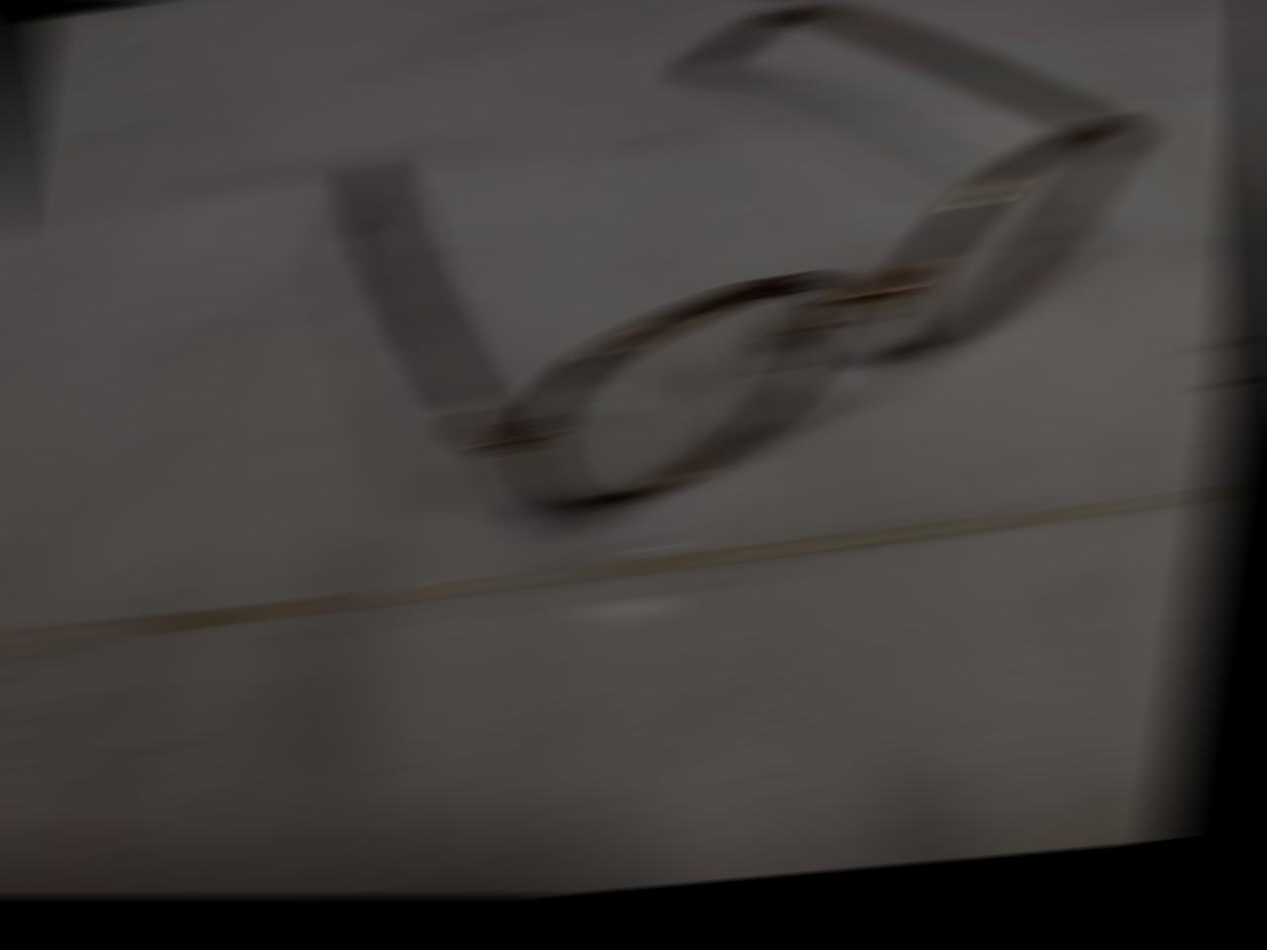glasses: (265, 1, 1186, 585)
